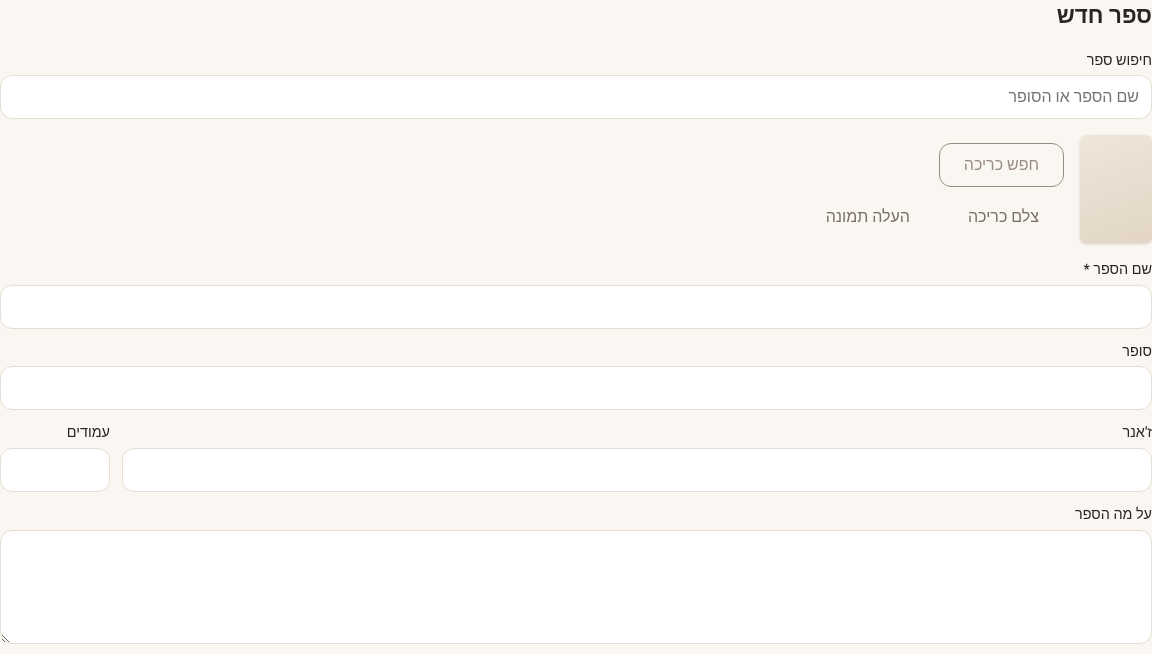
Scenario: NewBook › shows Google Books results and fills the form on select
Type "dune" into the search field.
click(576, 97); type("dune")  # box [0, 75, 1151, 119]
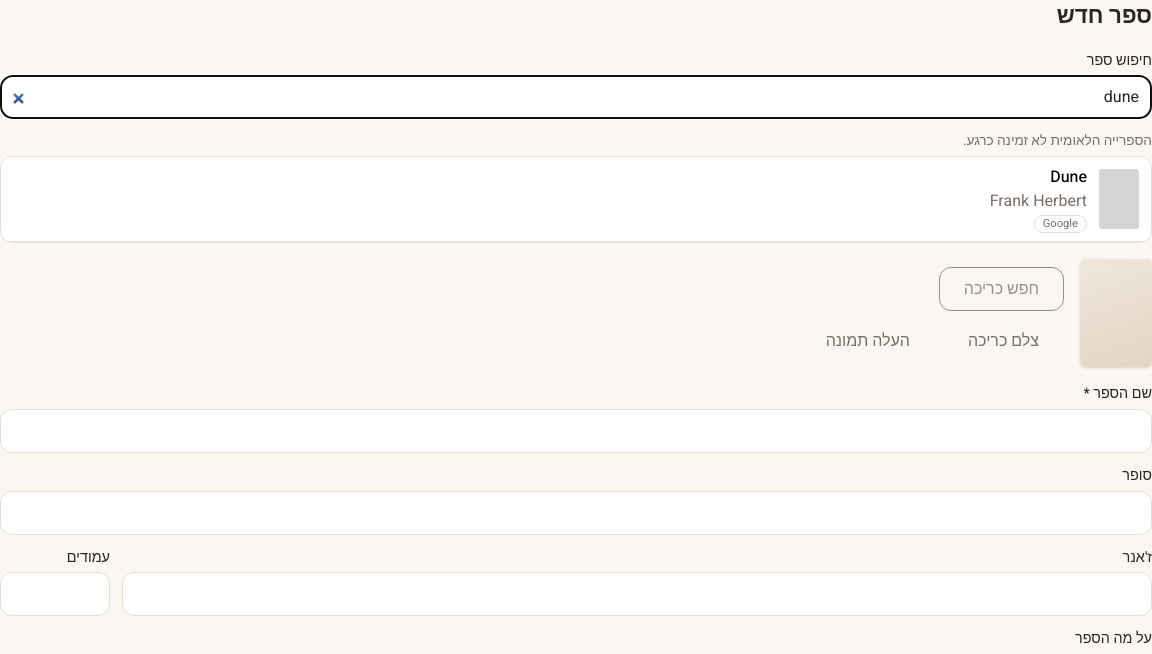
Click the button "Dune Frank Herbert Google".
click(1119, 199)  # box [1, 157, 1151, 242]
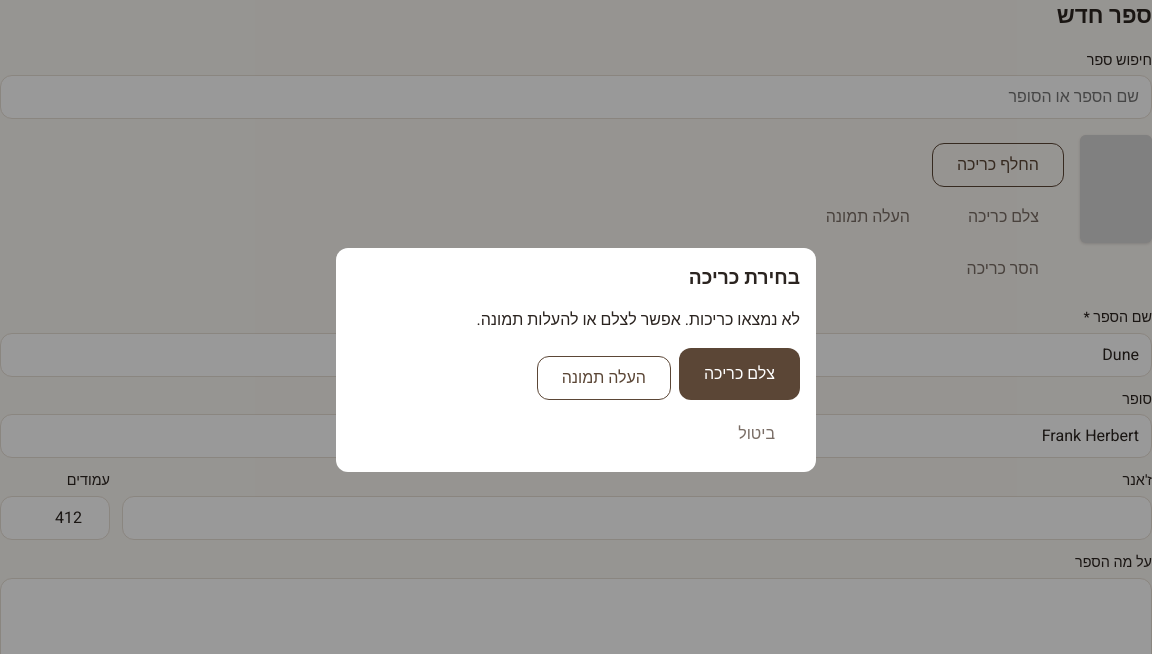
Now the field labelled "שם הספר *" holds "Dune", box [0, 333, 1151, 377]
Now the field labelled "סופר" holds "Frank Herbert", box [0, 414, 1151, 458]
Now the number field labelled "עמודים" holds "412", box [0, 496, 110, 540]
